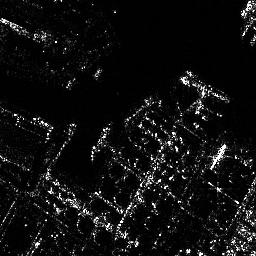ship: (177, 73, 231, 104), (89, 121, 112, 159), (208, 142, 227, 171)
